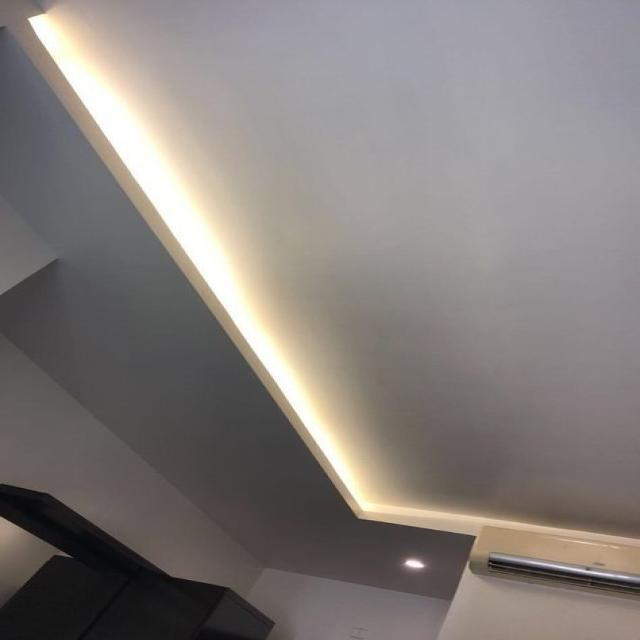AC: (466, 523, 639, 599)
